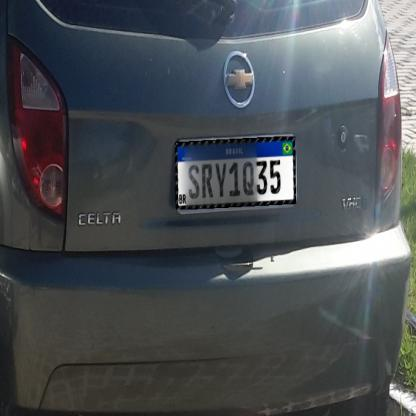PlacaM: (175, 136, 296, 210)
